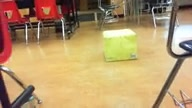cube: (102, 28, 139, 62)
